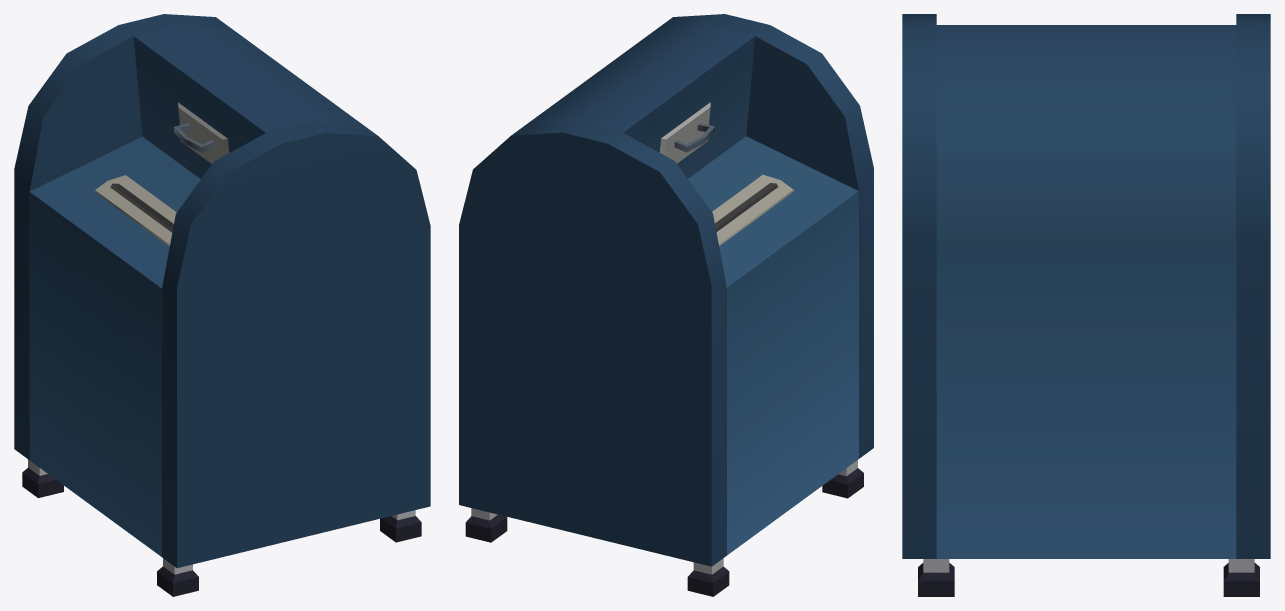
Rendered from PostBox_1_A.fbx.
The picture shows the model from 3 angles, left to right: view 1: azimuth 30°, elevation 25°; view 2: azimuth 150°, elevation 25°; view 3: azimuth 270°, elevation 25°; orthographic projection. The views are drawn at different scales.
Visible parts, largest first — view 1: PostBox_1_A; view 2: PostBox_1_A; view 3: PostBox_1_A.
Part boxes in pixels (bbox=[...]): PostBox_1_A: bbox=[14, 14, 430, 596]; PostBox_1_A: bbox=[459, 14, 873, 596]; PostBox_1_A: bbox=[902, 14, 1270, 596].
Size of the model in its own units: 51.21 by 83.66 by 56.89.
